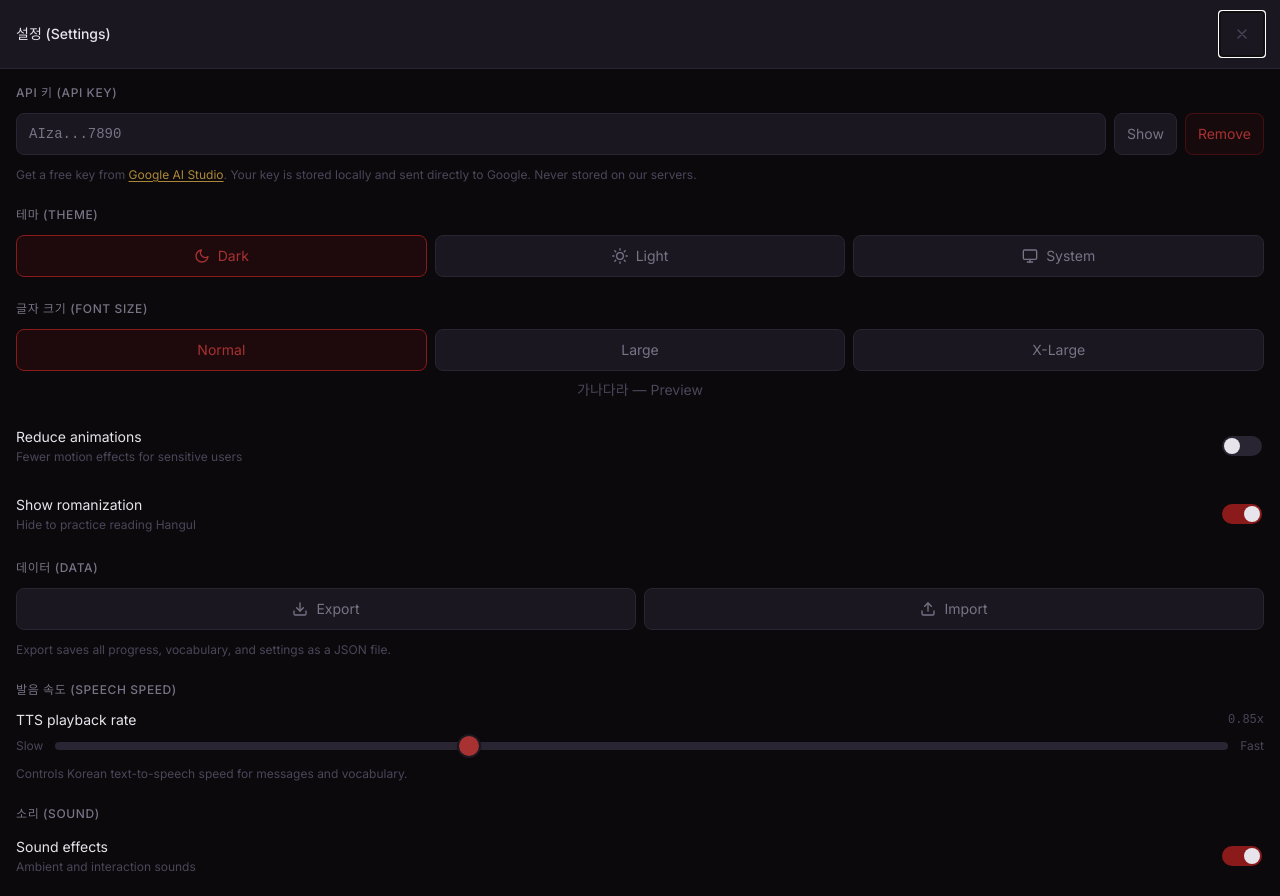
Scenario: SettingsPanel › when API key is set › toggles between Show and Hide
Click the button "Show" at (1145, 134), box [1114, 113, 1177, 155]
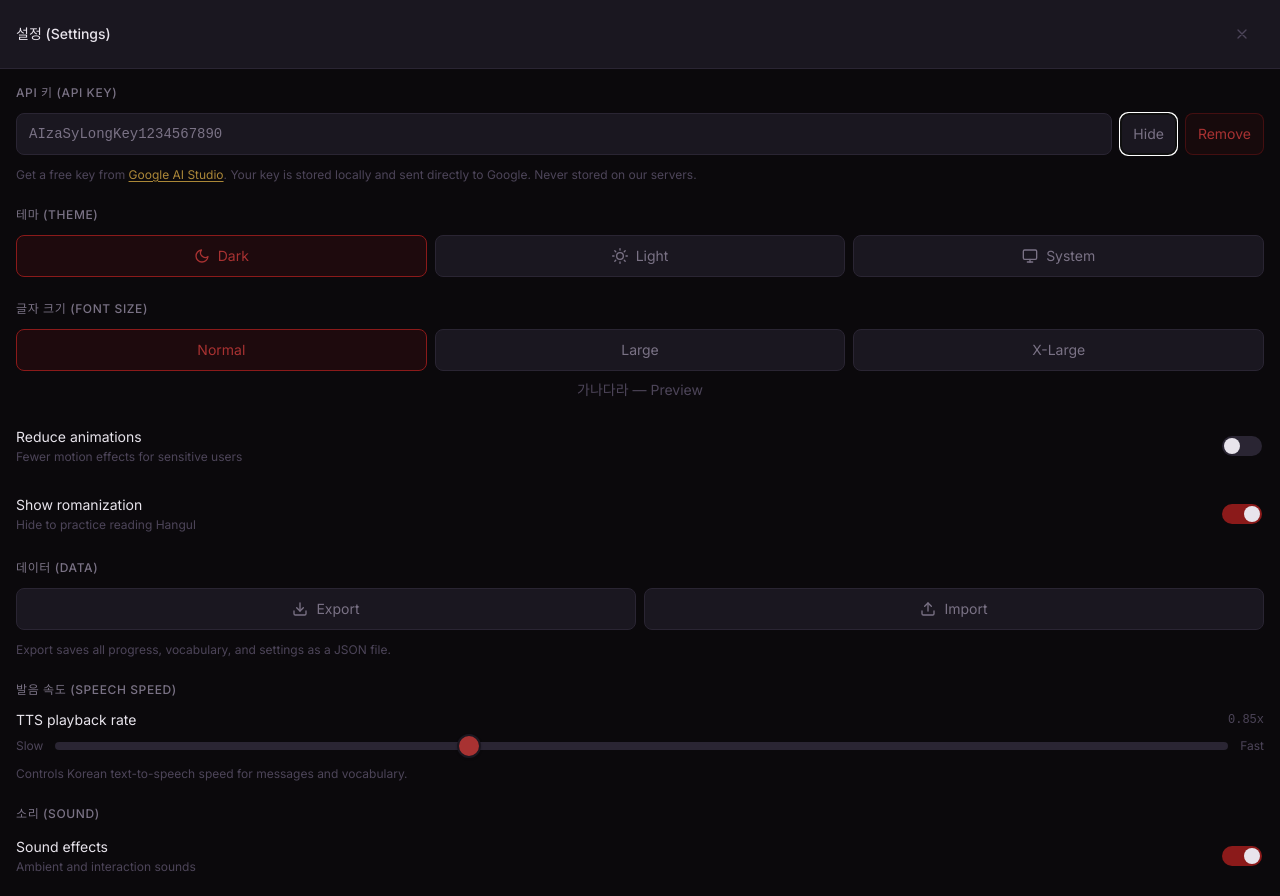
expect the text "AIzaSyLongKey1234567890" is shown: met, box [16, 113, 1112, 155]
expect the button "Hide" is shown: met
Click the button "Hide" at (1149, 134), box [1120, 113, 1177, 155]
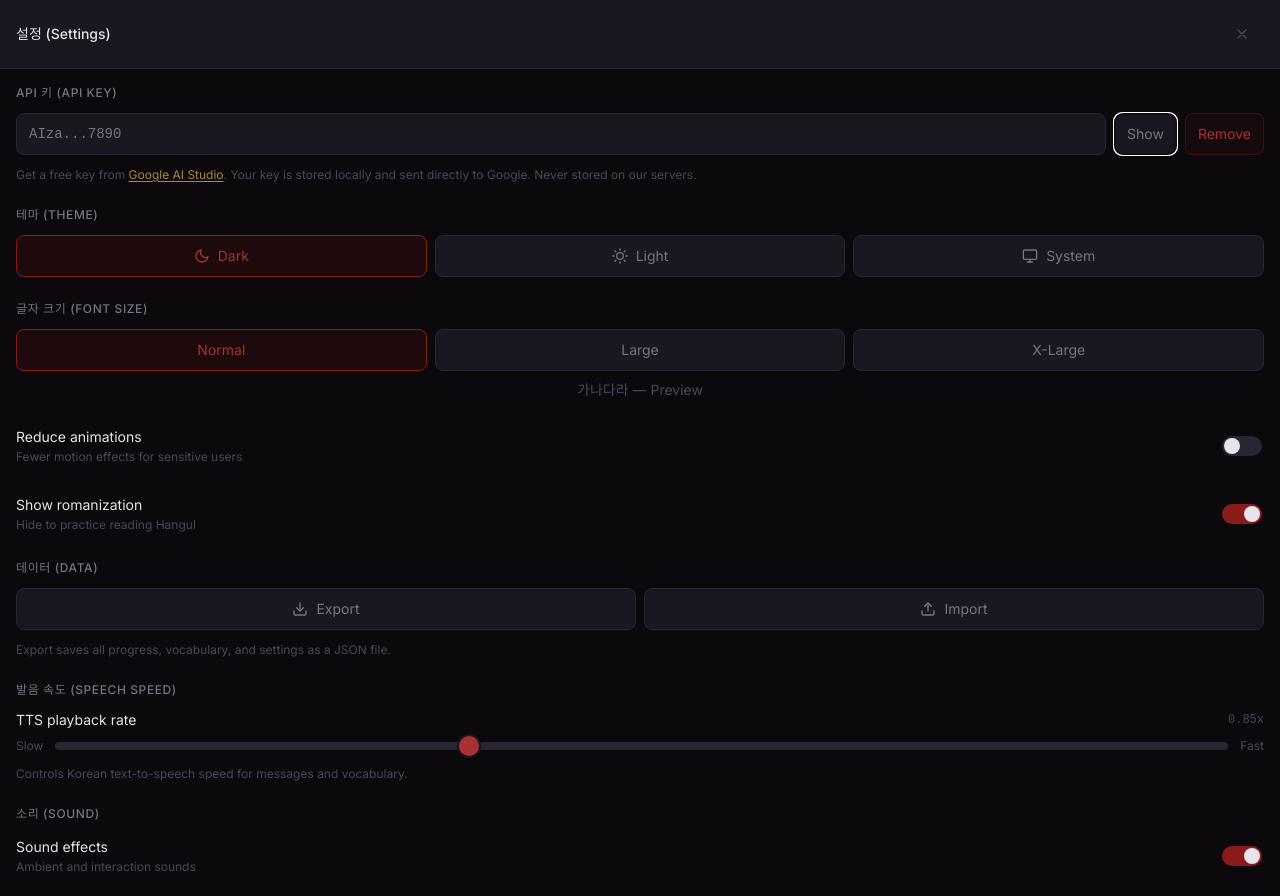
expect the text "AIza...7890" is shown: met, box [16, 113, 1106, 155]
